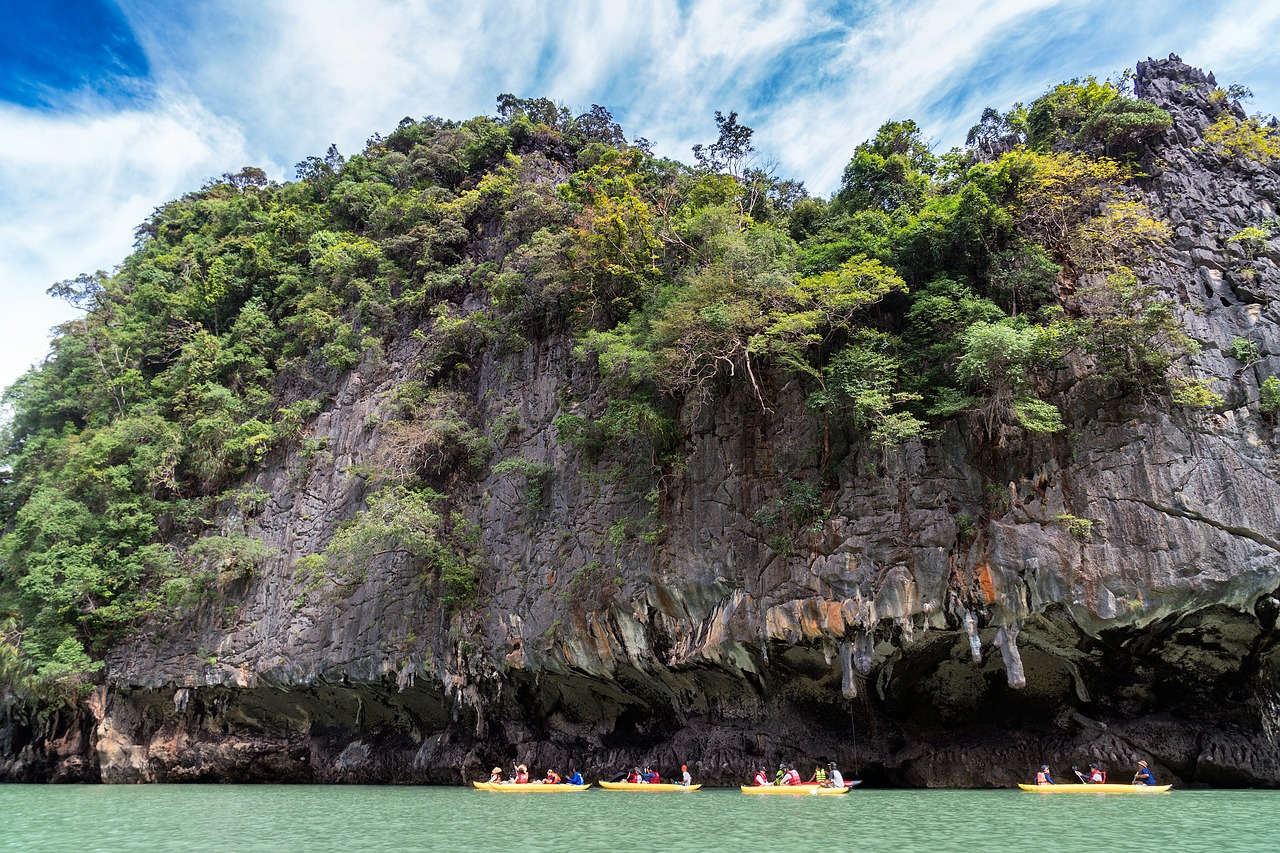kayak: (1015, 782, 1176, 795), (597, 780, 709, 795), (738, 782, 851, 796), (470, 781, 593, 791)
